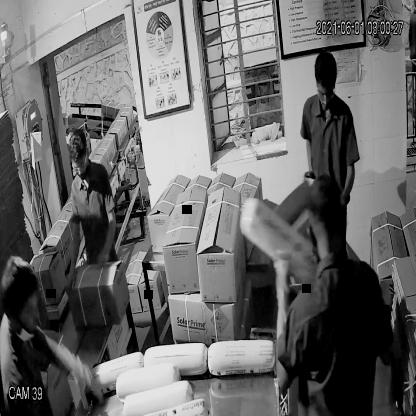goggles: (69, 152, 92, 176)
